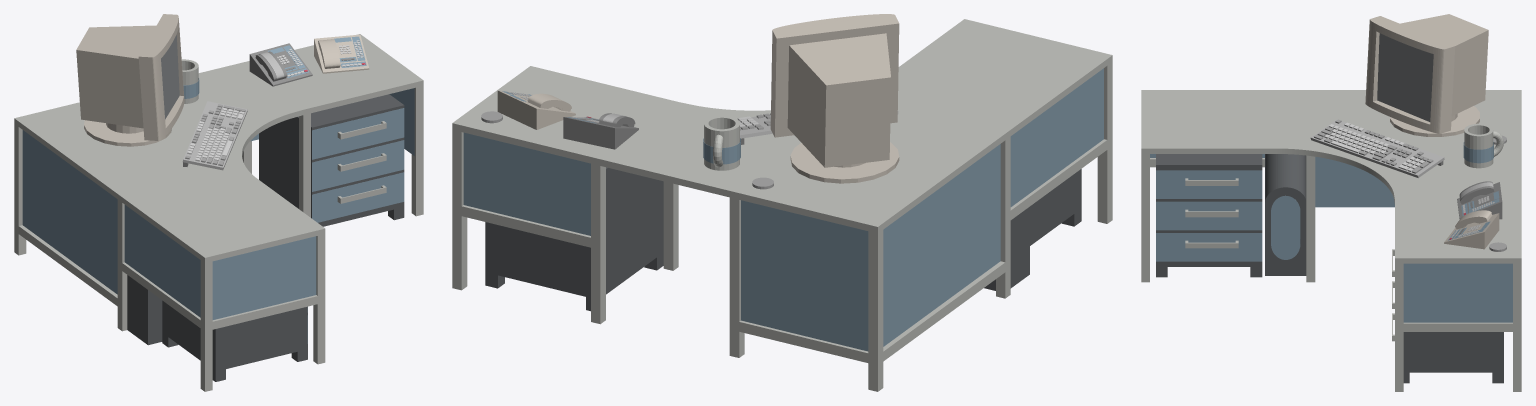
Rendered from EscritorioOficina4.glb.
The picture shows the model from 3 angles, left to right: view 1: azimuth 30°, elevation 25°; view 2: azimuth 150°, elevation 25°; view 3: azimuth 270°, elevation 25°; orthographic projection. The views are drawn at different scales.
Visible parts, largest first — view 1: Mesh_Mesh_head_geo.001_lambert2SG.001; view 2: Mesh_Mesh_head_geo.001_lambert2SG.001; view 3: Mesh_Mesh_head_geo.001_lambert2SG.001.
Part boxes in pixels (left/top/right/bottom): Mesh_Mesh_head_geo.001_lambert2SG.001: left=14, top=14, right=423, bottom=391; Mesh_Mesh_head_geo.001_lambert2SG.001: left=452, top=14, right=1112, bottom=391; Mesh_Mesh_head_geo.001_lambert2SG.001: left=1141, top=14, right=1521, bottom=391.
Size of the model in its own units: 67.5 by 44 by 64.5.
